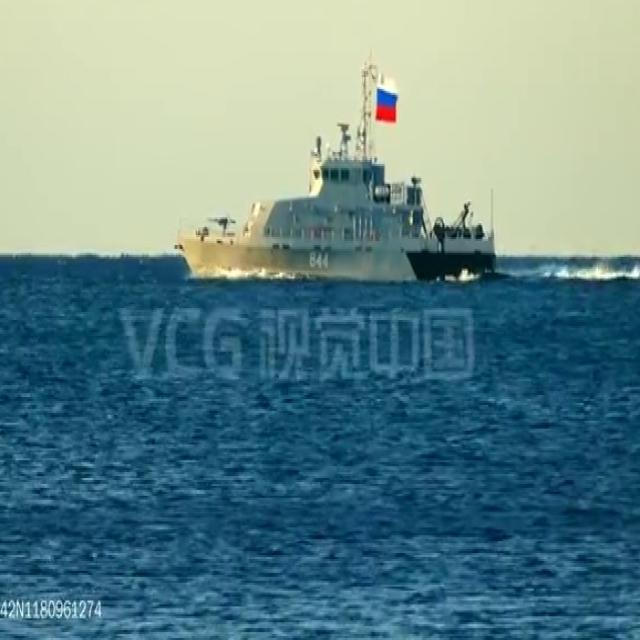houseboat: (176, 67, 495, 289)
